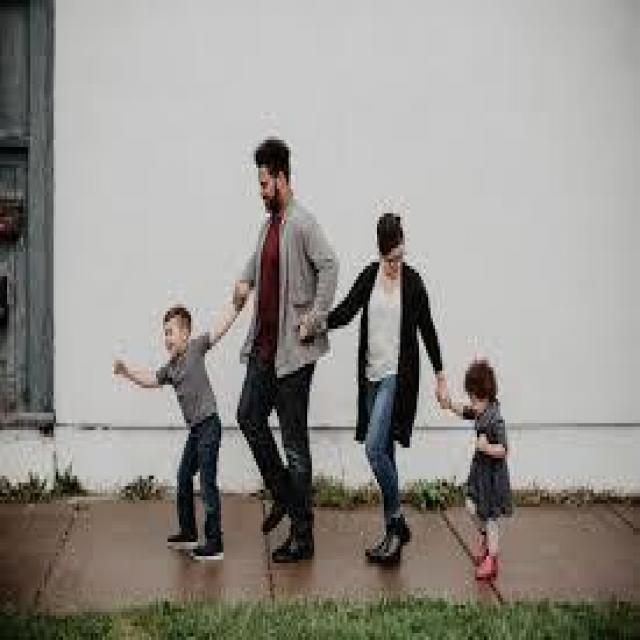person: (219, 119, 356, 584), (314, 178, 447, 580), (103, 259, 245, 591), (435, 311, 526, 591)
